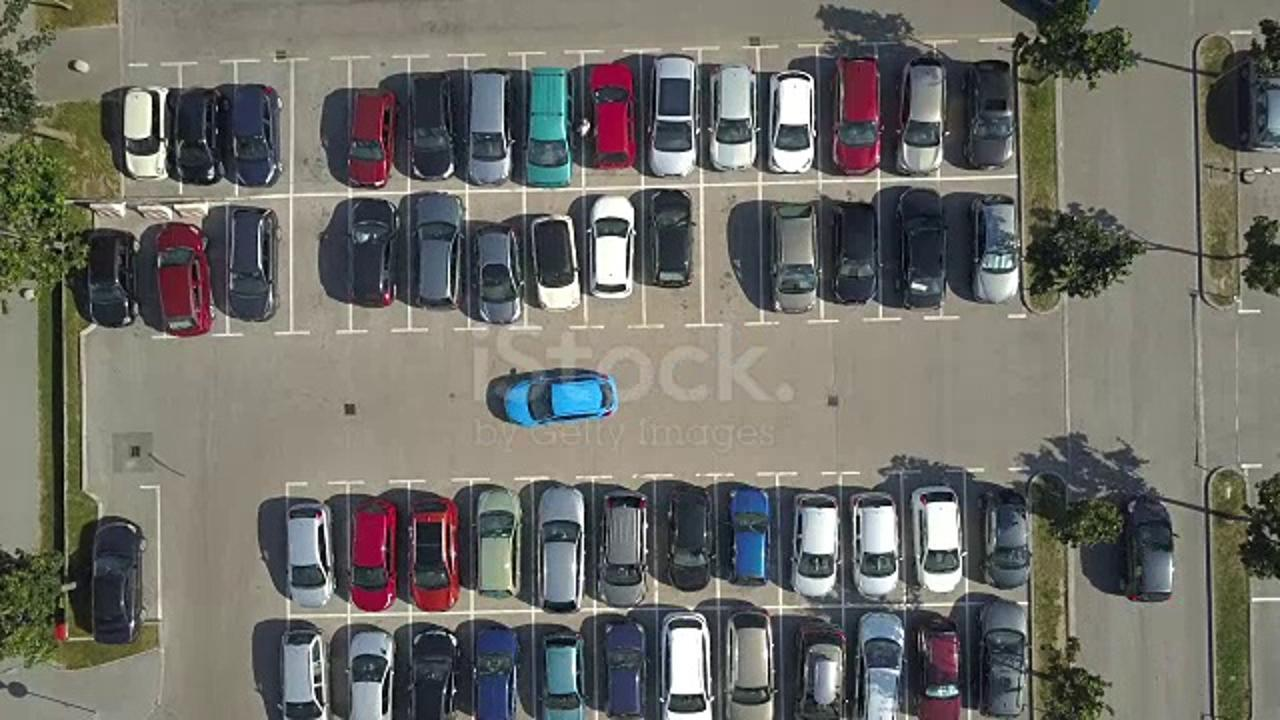car: (221, 201, 288, 327), (340, 192, 405, 319), (591, 482, 656, 609), (86, 517, 151, 642), (340, 492, 403, 612), (464, 219, 528, 331), (469, 480, 528, 599), (521, 61, 578, 184), (577, 192, 639, 305), (645, 55, 701, 173), (496, 367, 616, 421), (646, 183, 701, 298), (848, 488, 903, 603), (788, 486, 843, 601), (768, 200, 823, 315), (343, 81, 399, 186), (725, 481, 777, 590), (765, 65, 815, 175)
